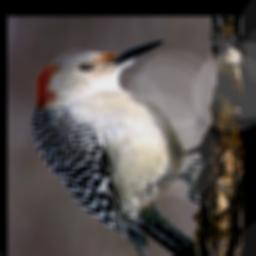Woodpecker: (30, 40, 212, 256)
